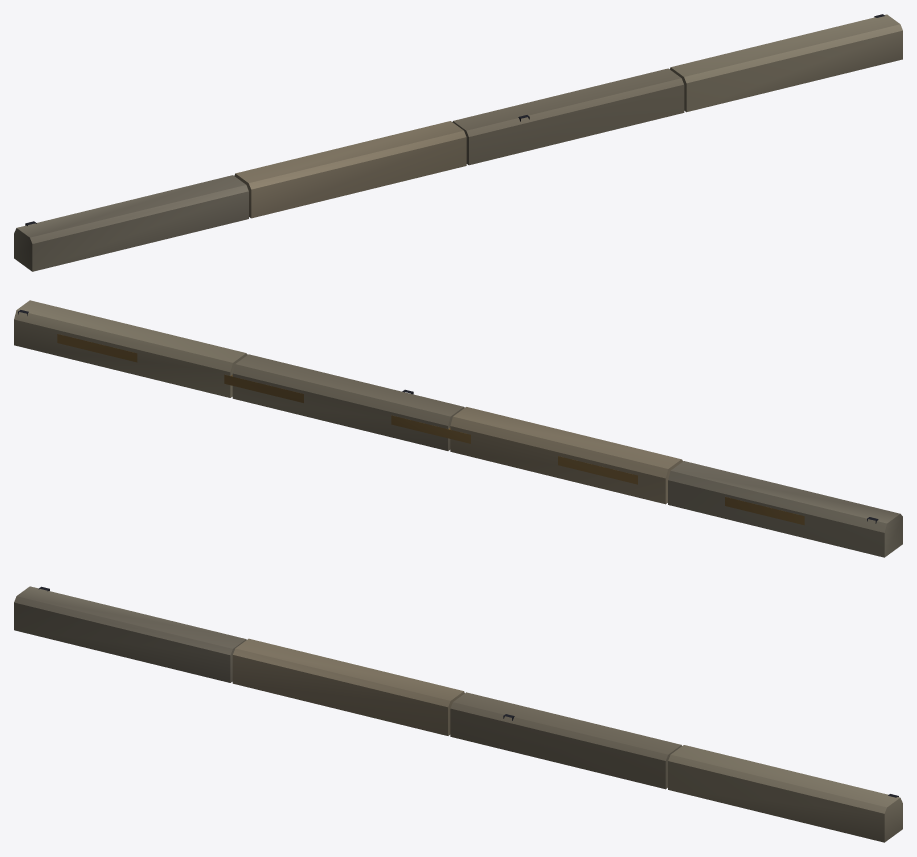
The model's file is curb_segment.glb.
3 renders of one model, top to bottom at view 1: azimuth 30°, elevation 25°; view 2: azimuth 150°, elevation 25°; view 3: azimuth 330°, elevation 25°, orthographic.
Parts seen in each view (by area): view 1: curb_segment; view 2: curb_segment; view 3: curb_segment.
Boxes of the visible parts, bbox=[...] form: curb_segment: bbox=[14, 14, 902, 271]; curb_segment: bbox=[14, 300, 902, 557]; curb_segment: bbox=[14, 586, 902, 842].
Size of the model in its own units: 6 by 0.2205 by 0.2205.
